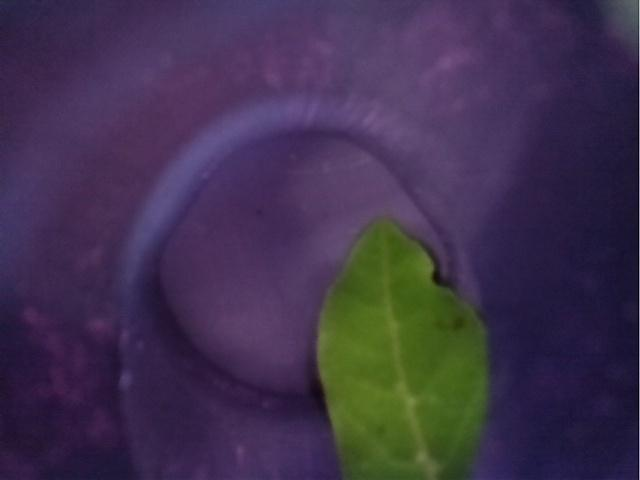feuille: (310, 199, 496, 480)
